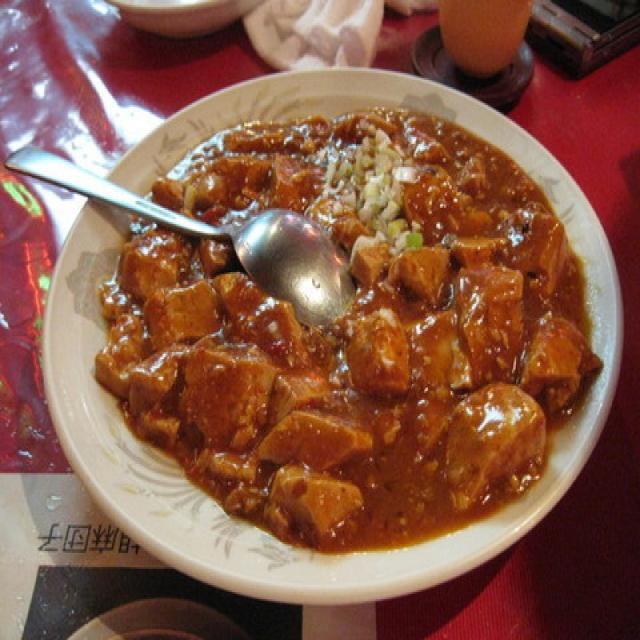豆腐料理: (40, 60, 624, 602)
